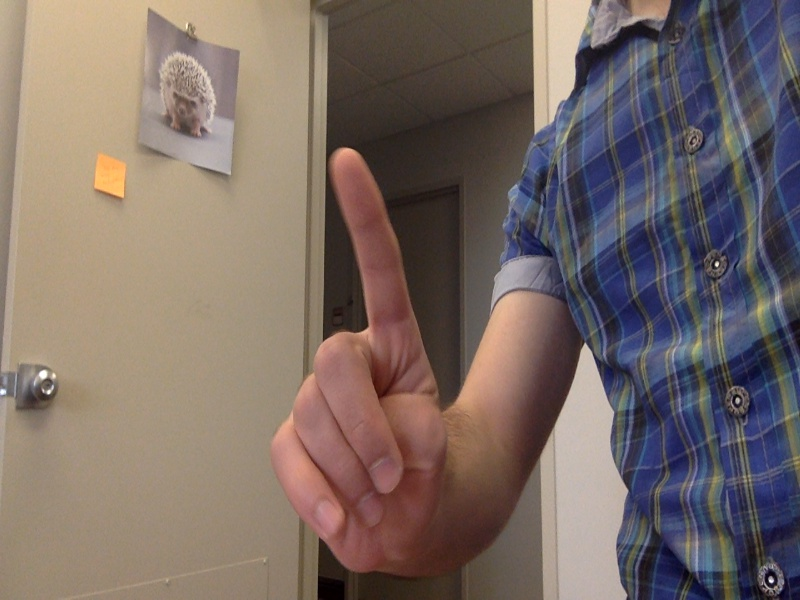1-hand: (269, 146, 444, 569)
